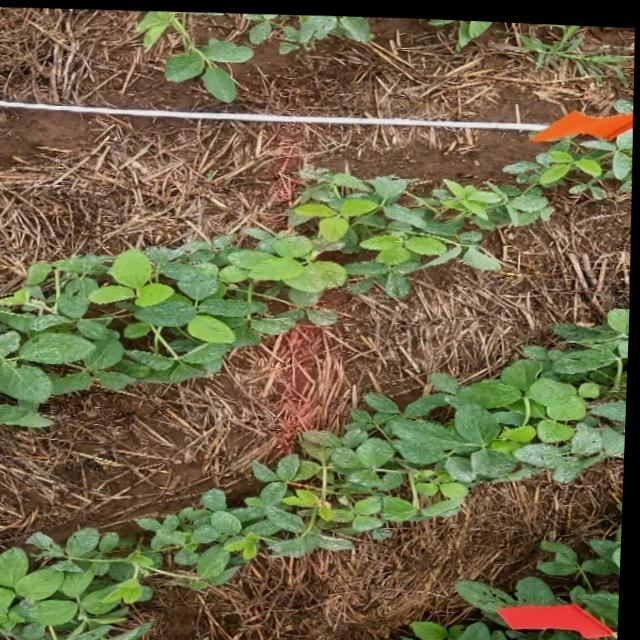grassy_weed: (517, 19, 634, 79)
soy_plant: (0, 303, 631, 640), (0, 125, 633, 424), (401, 520, 626, 640), (137, 8, 253, 98), (243, 10, 371, 49), (457, 16, 489, 41), (429, 15, 450, 20)
